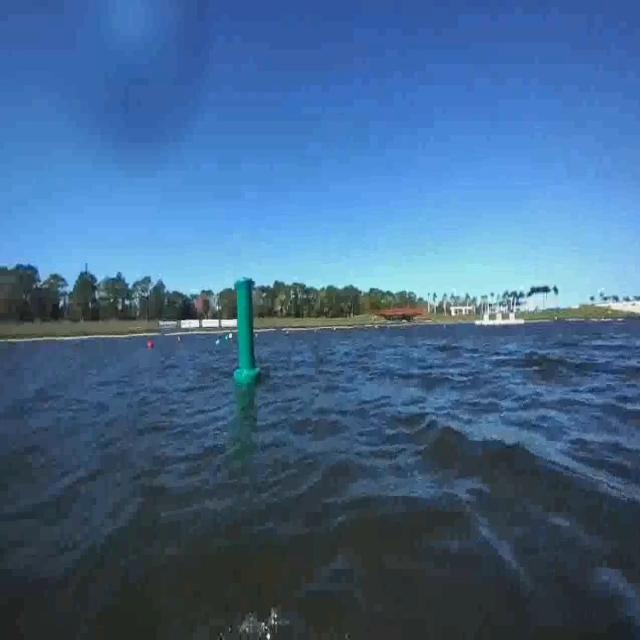green-column-buoy: (234, 277, 262, 387)
